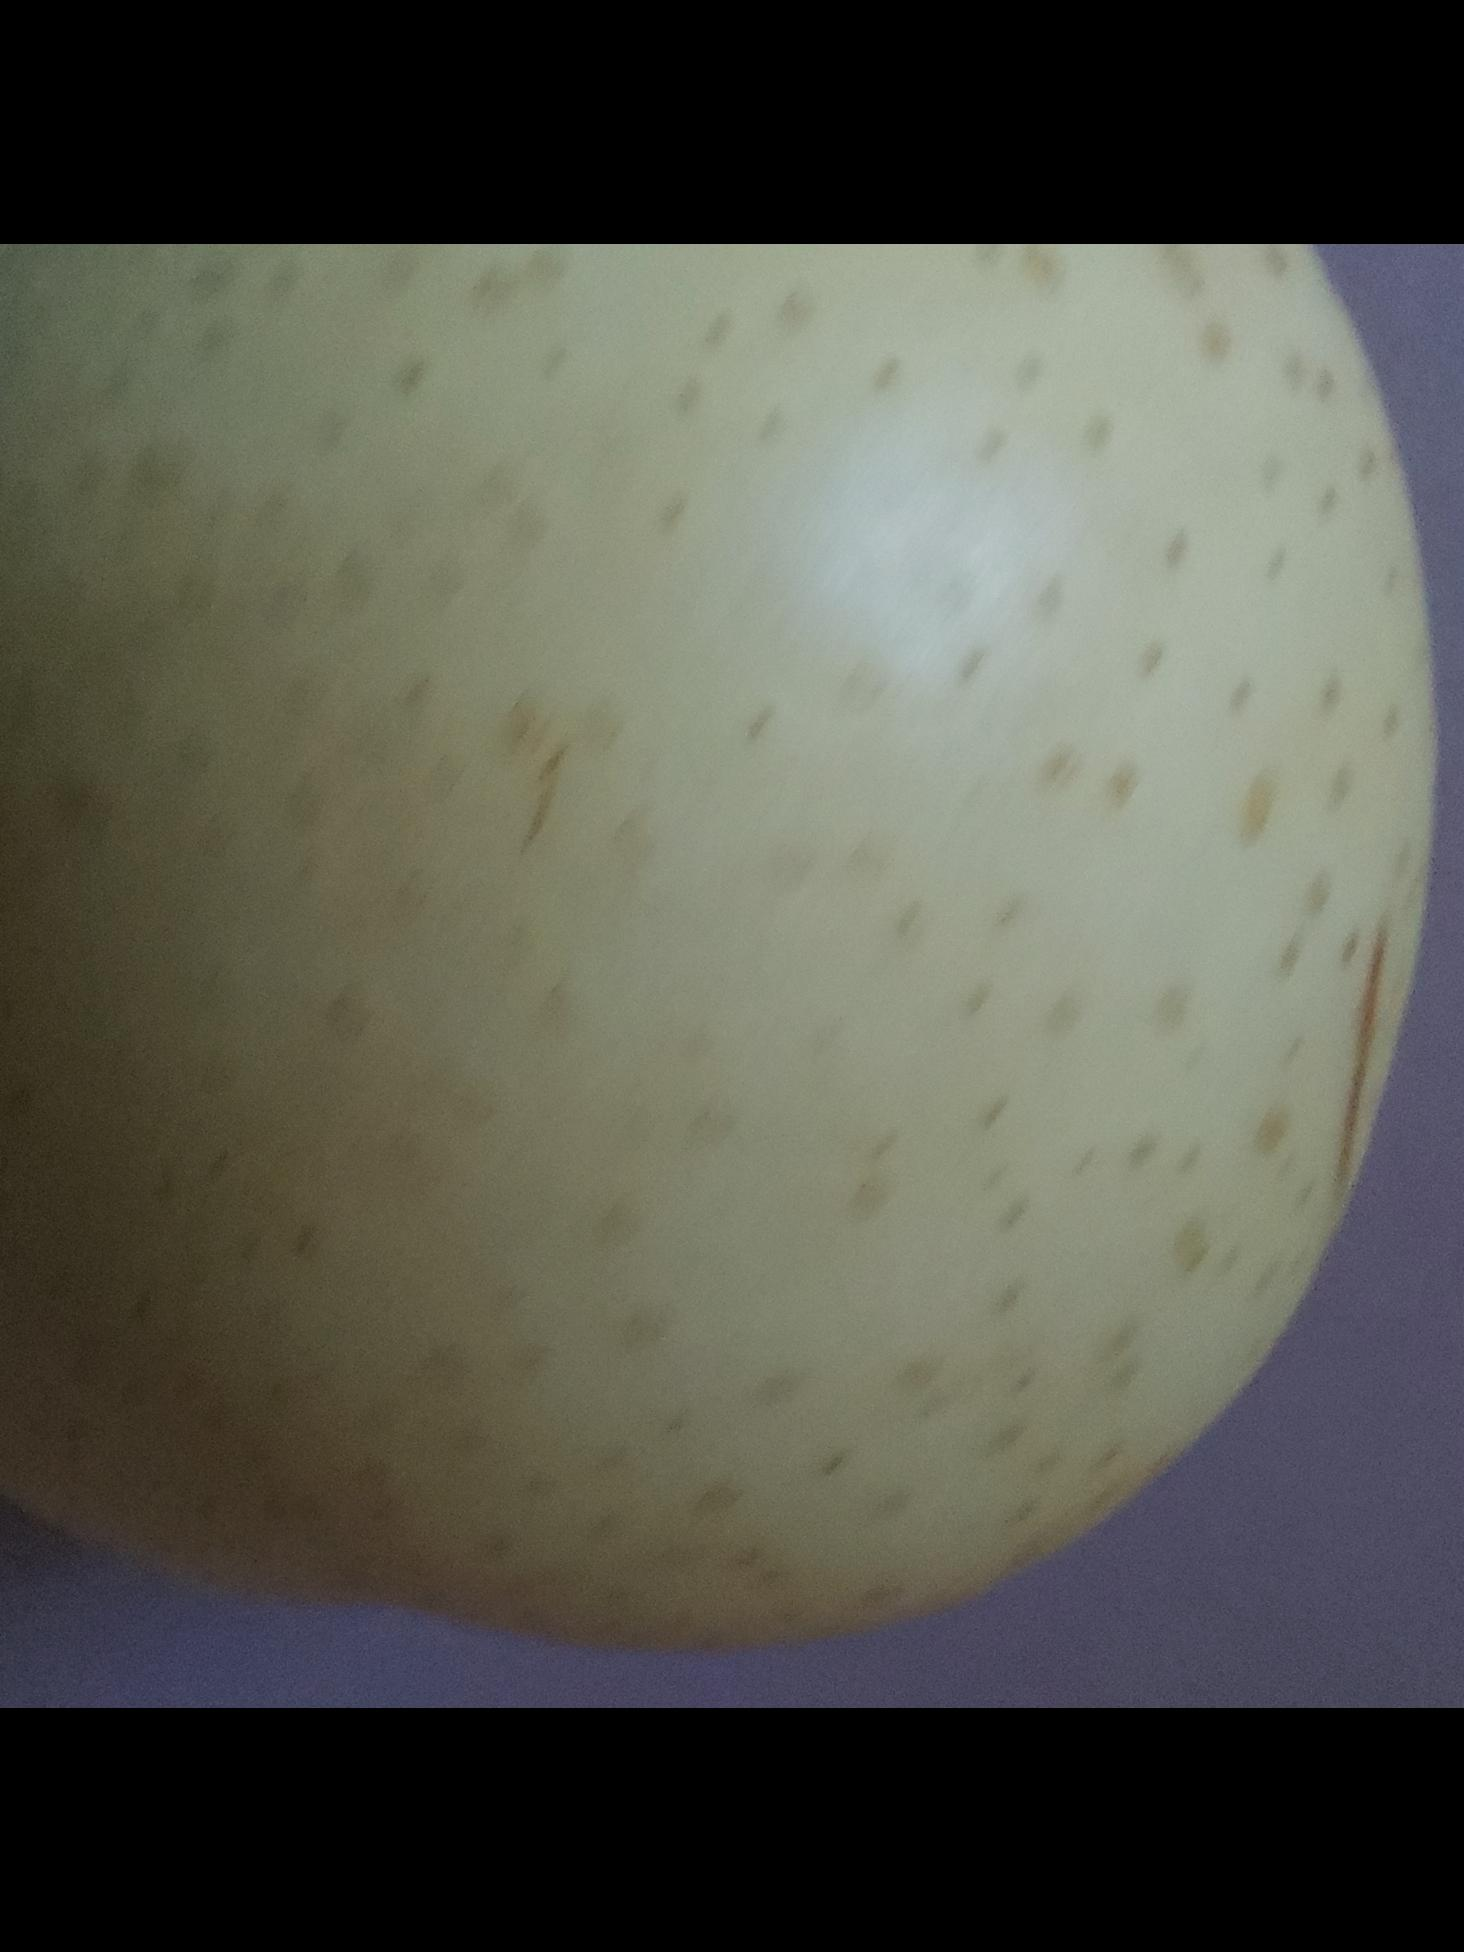Good Pear: (0, 244, 1464, 1708)
